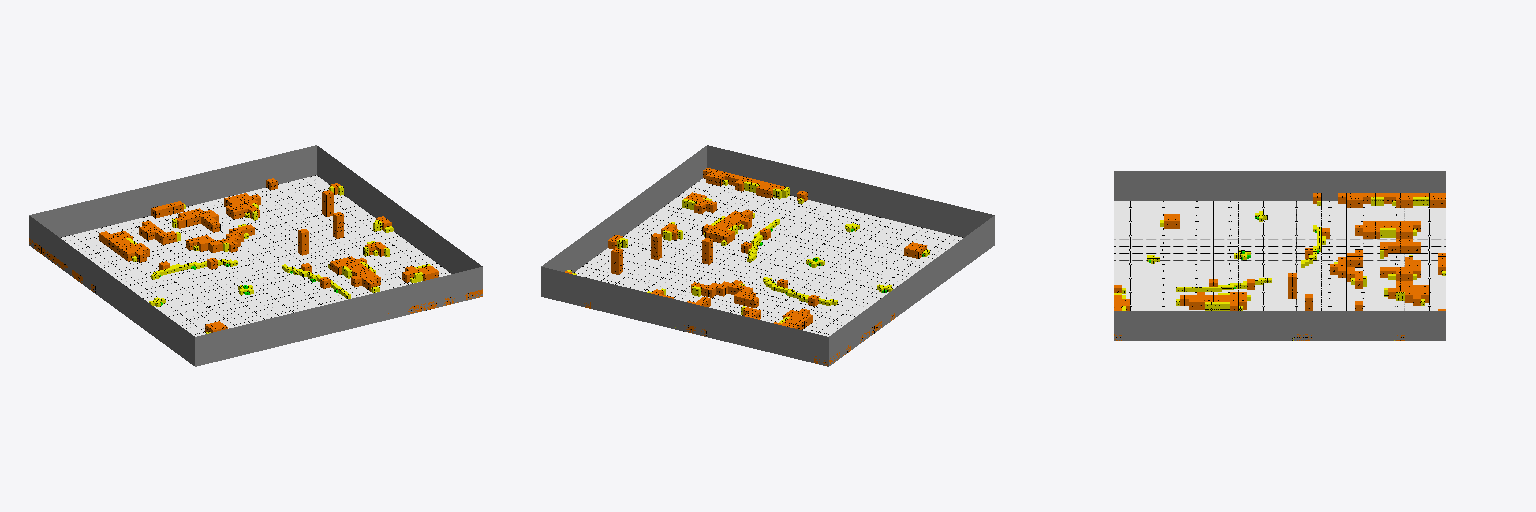
3 renders of one model, left to right at view 1: azimuth 30°, elevation 25°; view 2: azimuth 150°, elevation 25°; view 3: azimuth 270°, elevation 25°, orthographic.
Parts seen in each view (by area): view 1: arena_a; view 2: arena_a; view 3: arena_a.
Part boxes in pixels (left/top/right/bottom): arena_a: left=29, top=145, right=482, bottom=366; arena_a: left=541, top=145, right=994, bottom=366; arena_a: left=1114, top=171, right=1445, bottom=340.
Size of the model in its own units: 80 by 8 by 80.
5 materials, 4 textured.